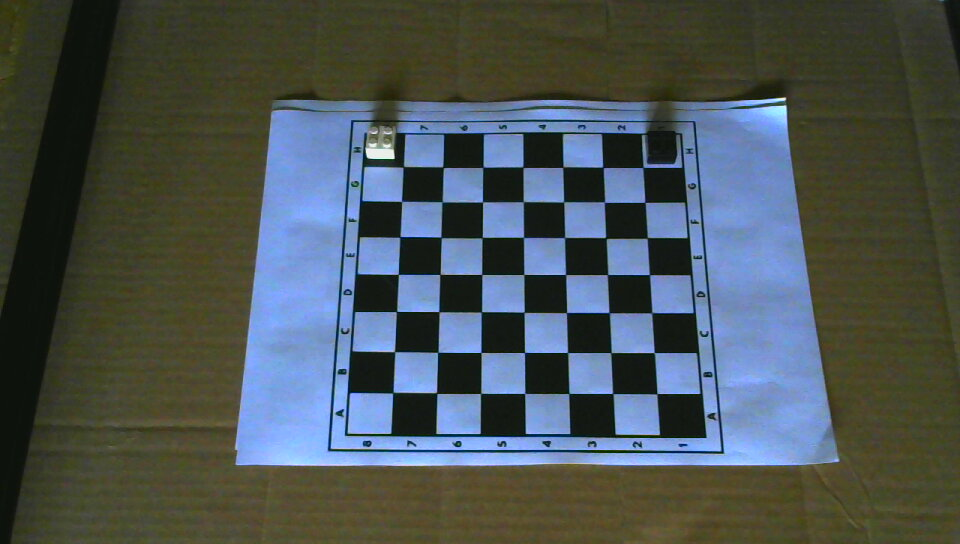bp: (644, 127, 679, 167)
wp: (364, 122, 398, 163)
